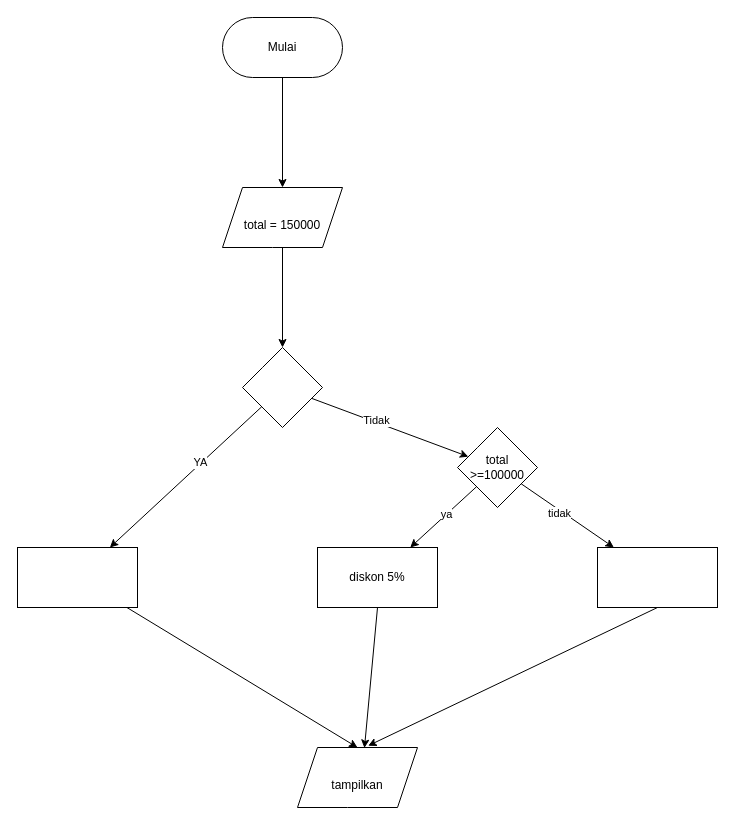
The diagram is 735 pixels wide and 825 high, and some of its shapes have lost their labels. Here are the shapes that lost their labels. From the top down, the box of each, then its label:
(242, 346, 322, 428): total >=200000
(16, 546, 138, 608): diskon 10%
(596, 546, 718, 608): tidak ada diskon
